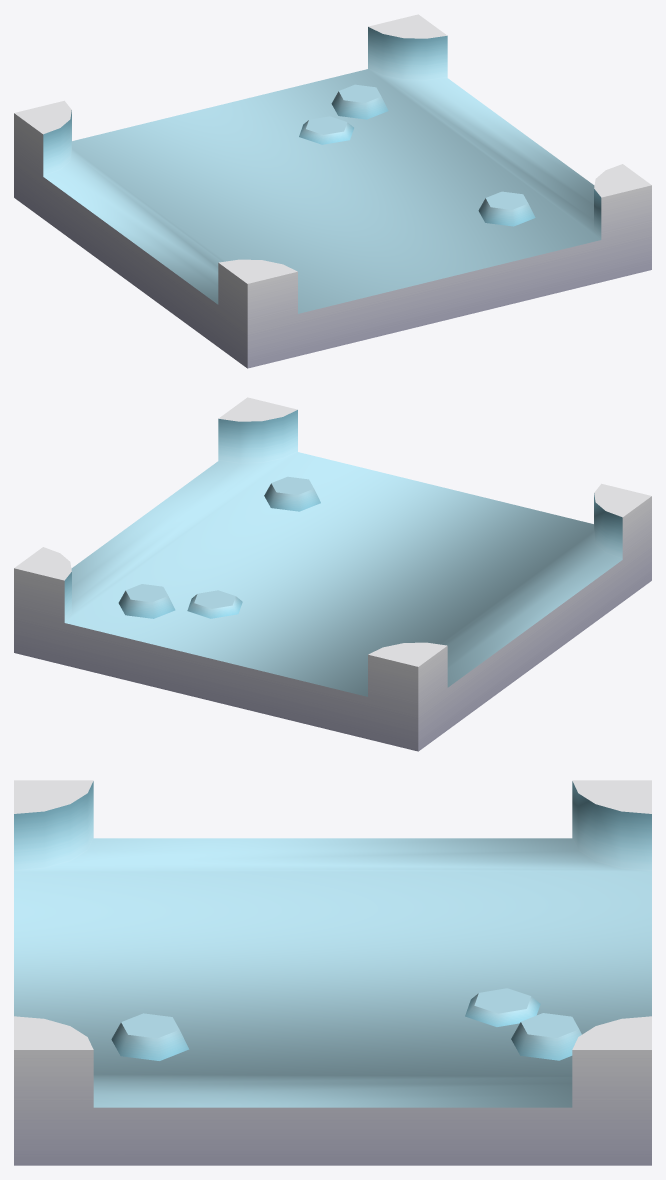
The model's file is snow-tile-crossing.fbx.
The picture shows the model from 3 angles, top to bottom: view 1: azimuth 30°, elevation 25°; view 2: azimuth 150°, elevation 25°; view 3: azimuth 270°, elevation 25°; orthographic projection. The views are drawn at different scales.
Visible parts, largest first — view 1: snow-tile-crossing; view 2: snow-tile-crossing; view 3: snow-tile-crossing.
Part boxes in pixels (box(x1,y1,x2,y2)): snow-tile-crossing: box(14, 14, 651, 368); snow-tile-crossing: box(14, 397, 651, 751); snow-tile-crossing: box(14, 780, 651, 1165).
Size of the model in its own units: 100 by 20 by 100.
